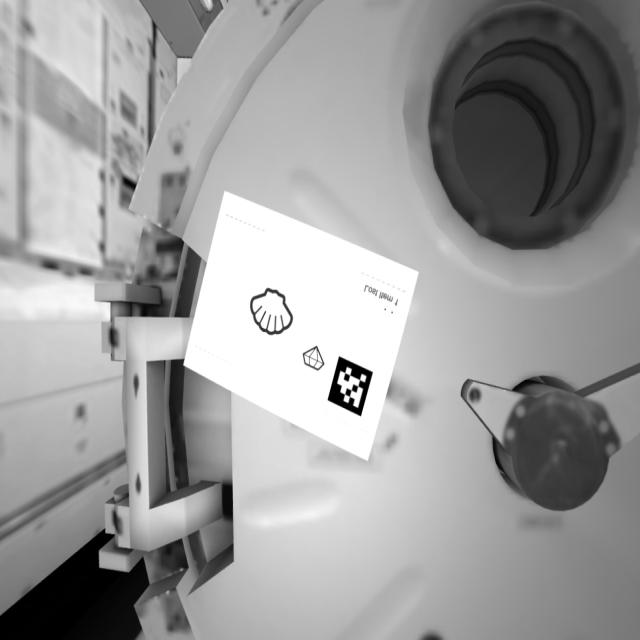diamond: (296, 335, 333, 385)
shell: (245, 281, 307, 344)
